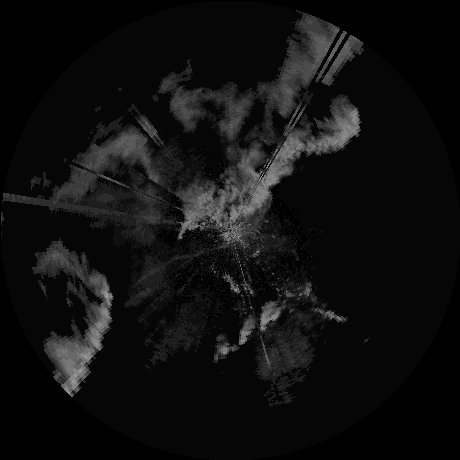frontgust: (171, 197, 272, 262)
